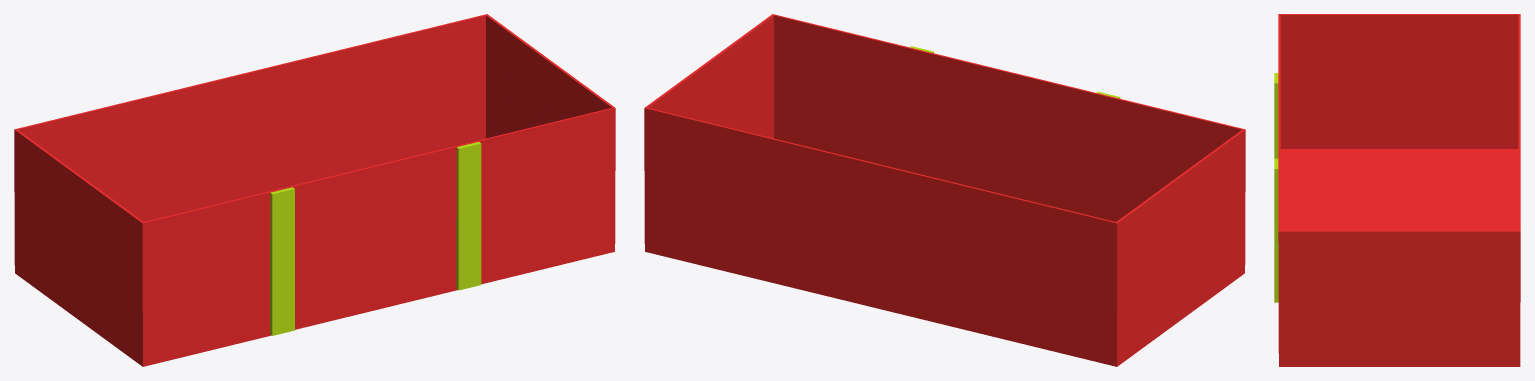
File: Crate Open.FBX
The picture shows the model from 3 angles, left to right: view 1: azimuth 30°, elevation 25°; view 2: azimuth 150°, elevation 25°; view 3: azimuth 270°, elevation 25°; orthographic projection. The views are drawn at different scales.
Visible parts, largest first — view 1: Box001, Box002, Box003; view 2: Box001; view 3: Box001, Box002, Box003.
Part boxes in pixels (<box>): Box001: <box>14,14,615,366</box>; Box002: <box>456,142,481,290</box>; Box003: <box>270,187,294,335</box>; Box001: <box>644,14,1245,366</box>; Box001: <box>1278,14,1520,366</box>; Box002: <box>1274,158,1278,302</box>; Box003: <box>1274,73,1278,158</box>.
Size of the model in its own units: 163 by 47.2 by 77.77.
